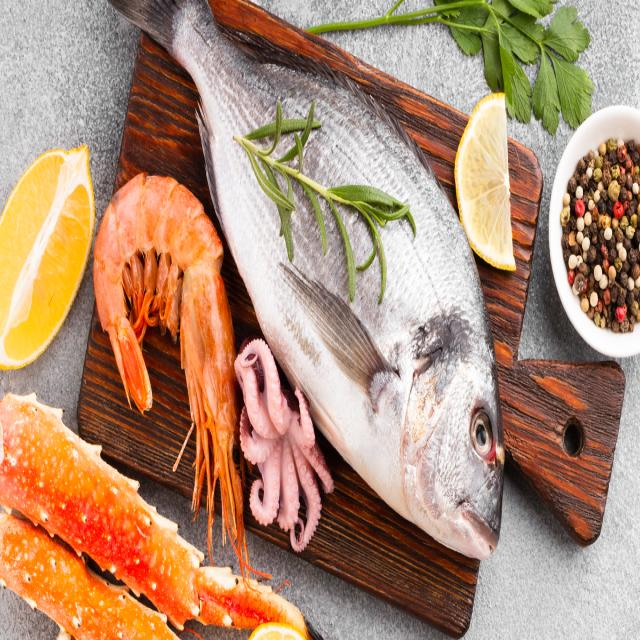pescado: (97, 0, 512, 570)
